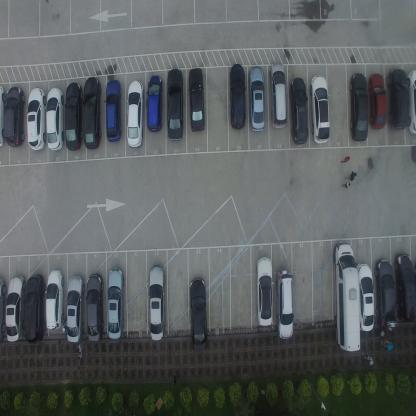car: (332, 242, 360, 352), (375, 258, 396, 330), (24, 272, 45, 344), (395, 252, 415, 325), (188, 277, 207, 353), (274, 268, 294, 340), (5, 274, 26, 342), (148, 263, 166, 342), (348, 72, 368, 143), (310, 74, 330, 144), (388, 68, 410, 131), (107, 266, 125, 340), (83, 76, 101, 150), (356, 262, 375, 332), (64, 82, 83, 152), (66, 274, 85, 344), (3, 86, 24, 149), (26, 86, 46, 152), (289, 77, 308, 146), (126, 77, 144, 148), (86, 272, 104, 343), (269, 60, 287, 130), (187, 67, 206, 133), (228, 63, 246, 130), (248, 66, 266, 133), (46, 85, 64, 152), (167, 67, 183, 142), (45, 268, 64, 331), (256, 256, 273, 326), (368, 72, 388, 130), (106, 78, 122, 143), (146, 74, 163, 132), (406, 67, 416, 135), (0, 275, 7, 343), (0, 84, 5, 148)
